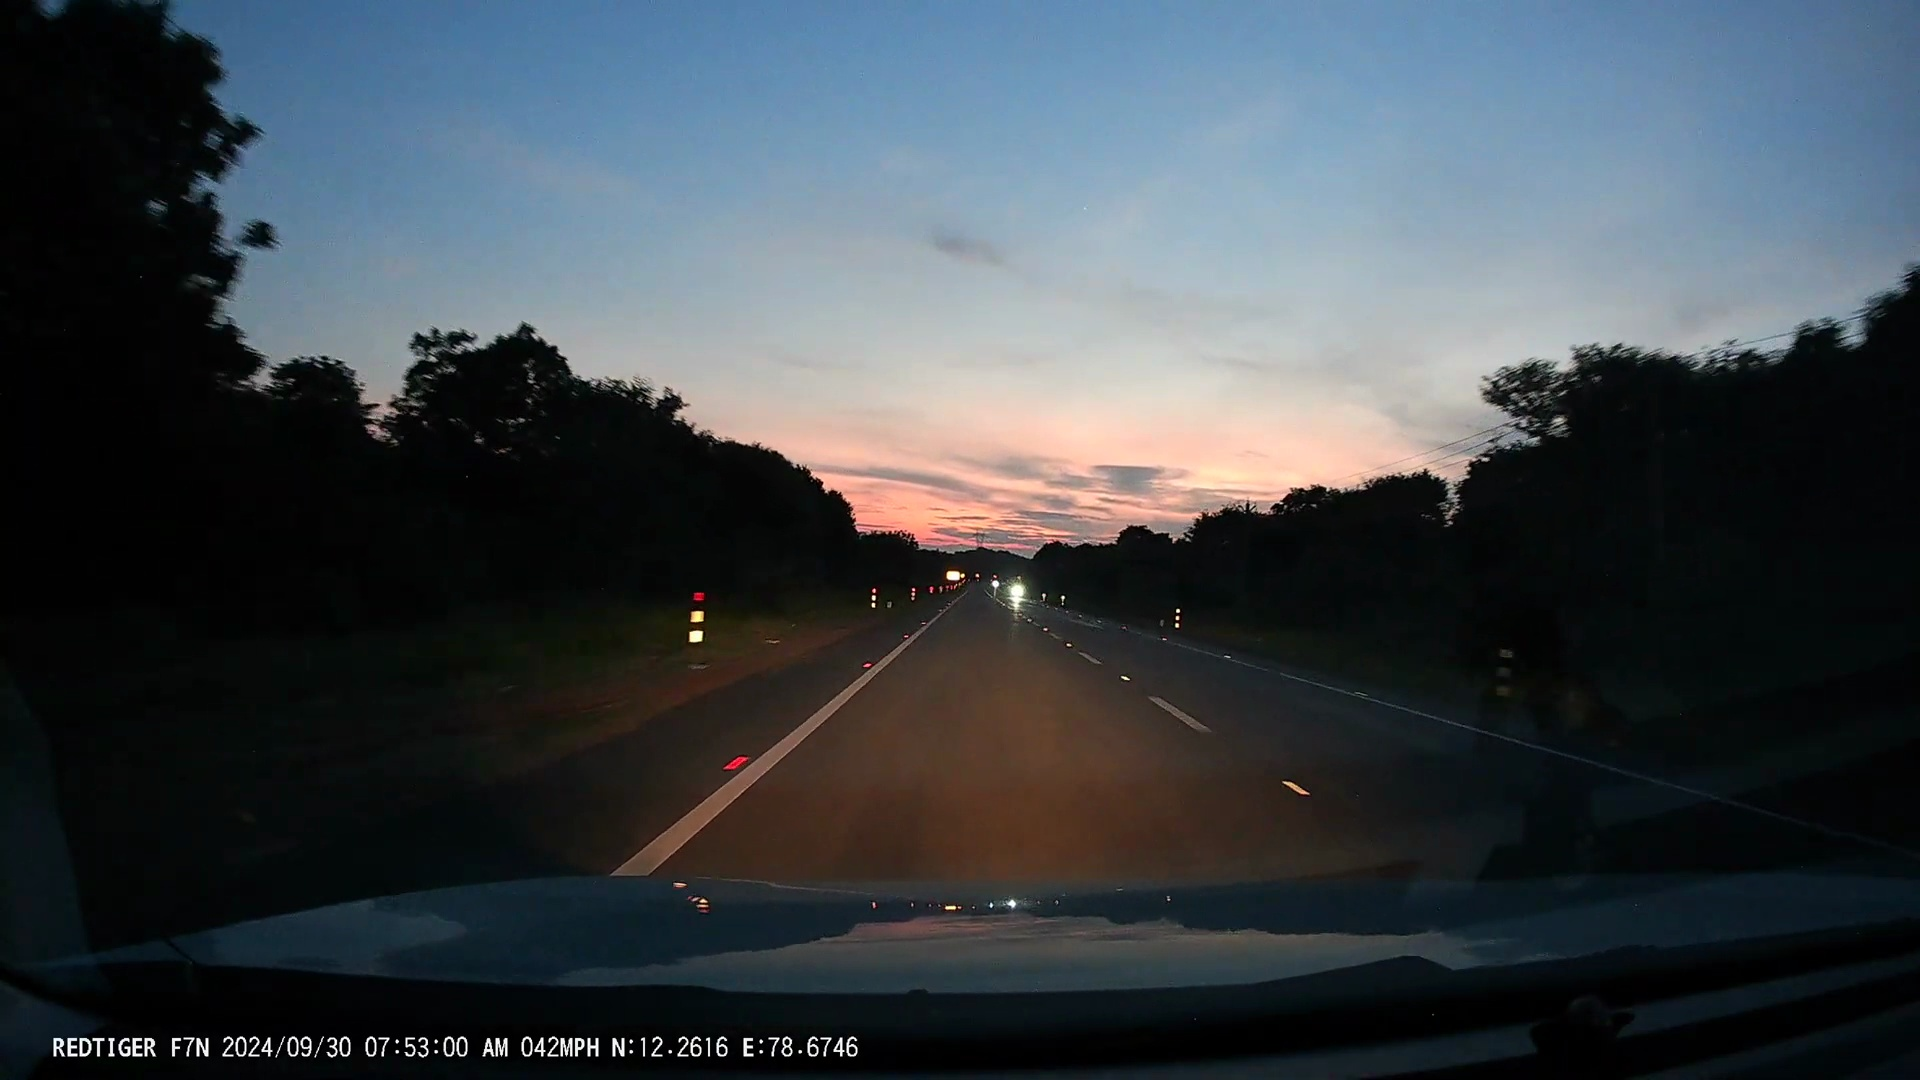headlight: (1011, 585, 1025, 595), (992, 582, 997, 589)
two wheeler: (1009, 578, 1026, 605), (990, 575, 1000, 597)
